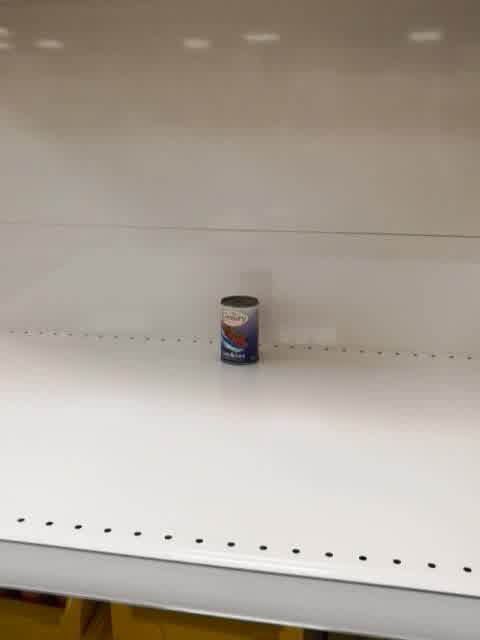sardine: (219, 294, 260, 367)
